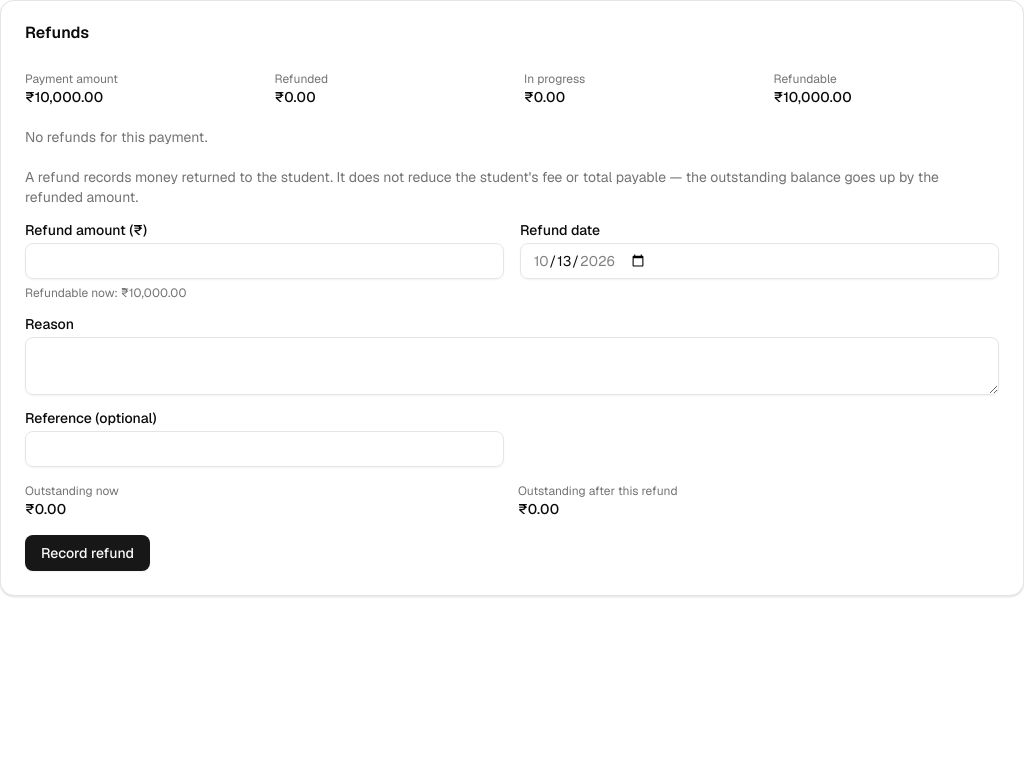
Test: PaymentRefundsCard › submits through the matching action and shows its result
In the field labelled "Refund amount (₹)": (264, 261) top-left (25, 243), bottom-right (504, 279), type "100"
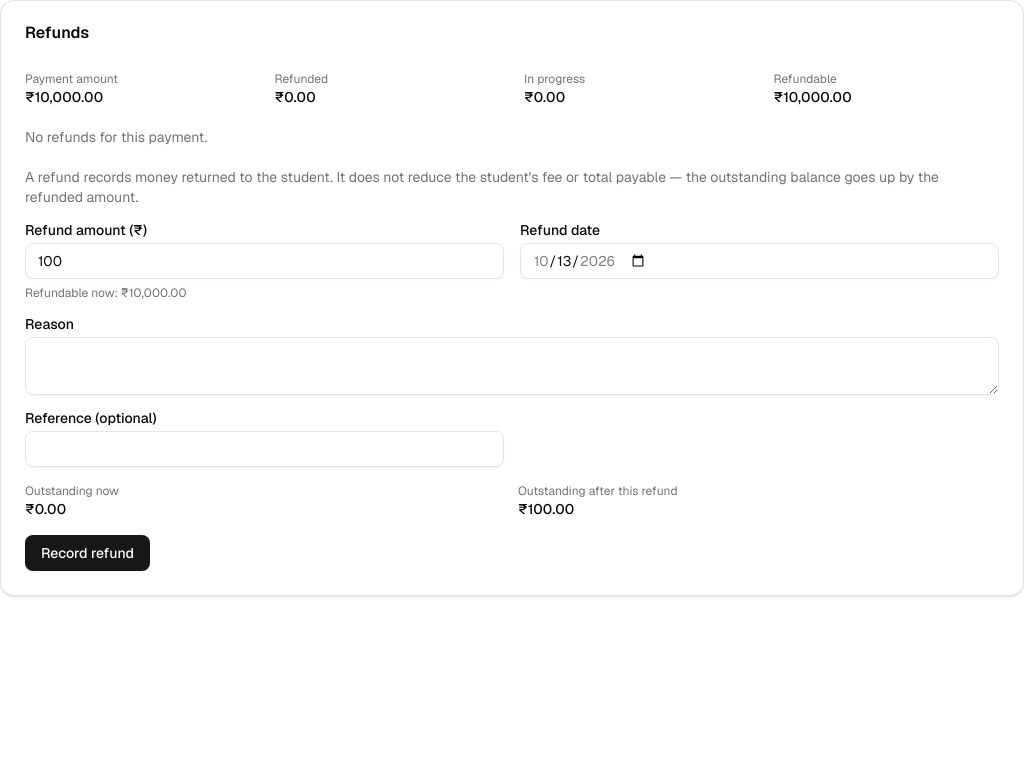
In the text box labelled "Reason": (512, 366) top-left (25, 337), bottom-right (999, 395), type "Overcharge"
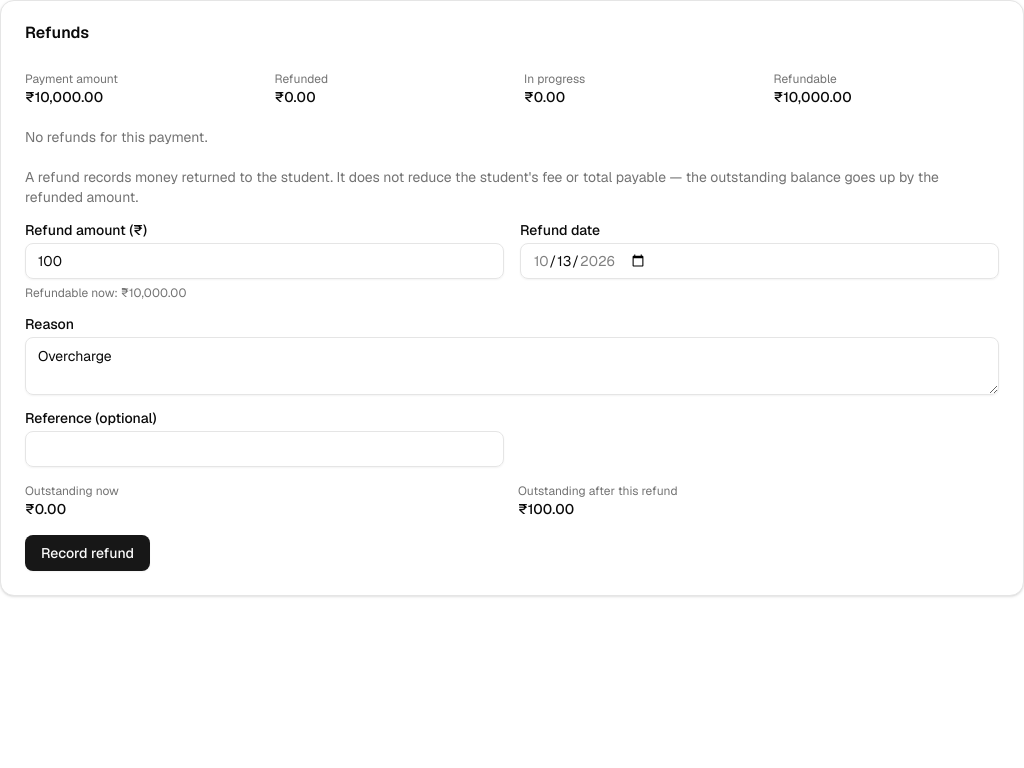
Click the button "Record refund": (88, 553) top-left (25, 535), bottom-right (150, 571)
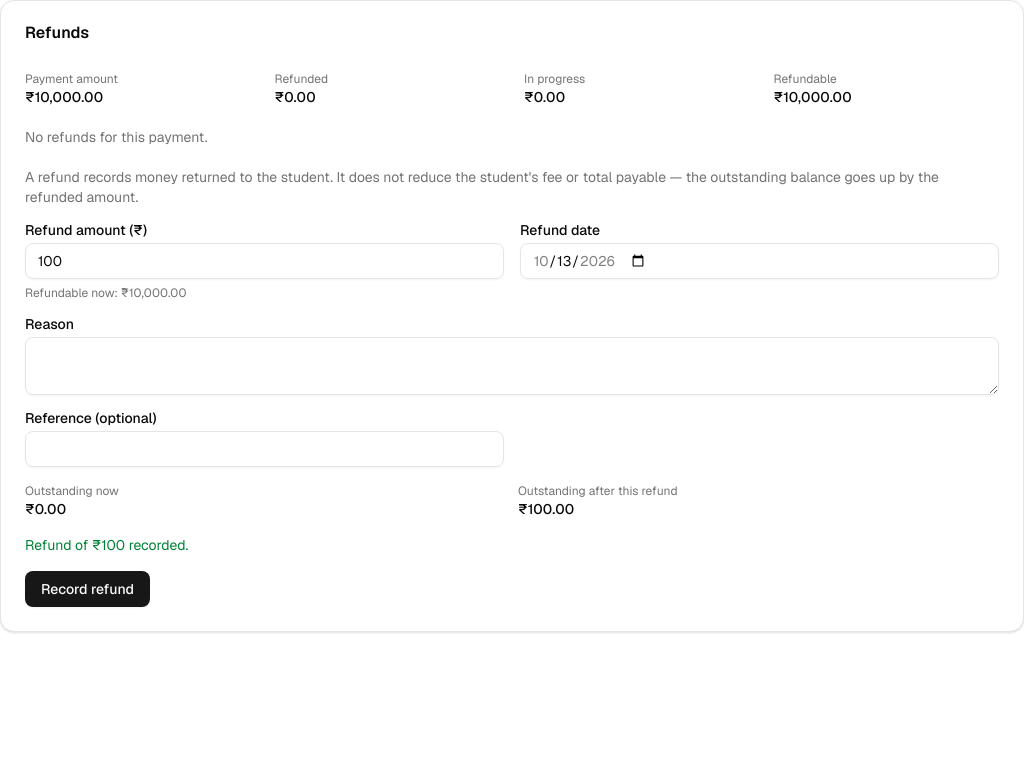
Check: the message reads "Refund of ₹100 recorded.", box top-left (25, 536), bottom-right (188, 554)
